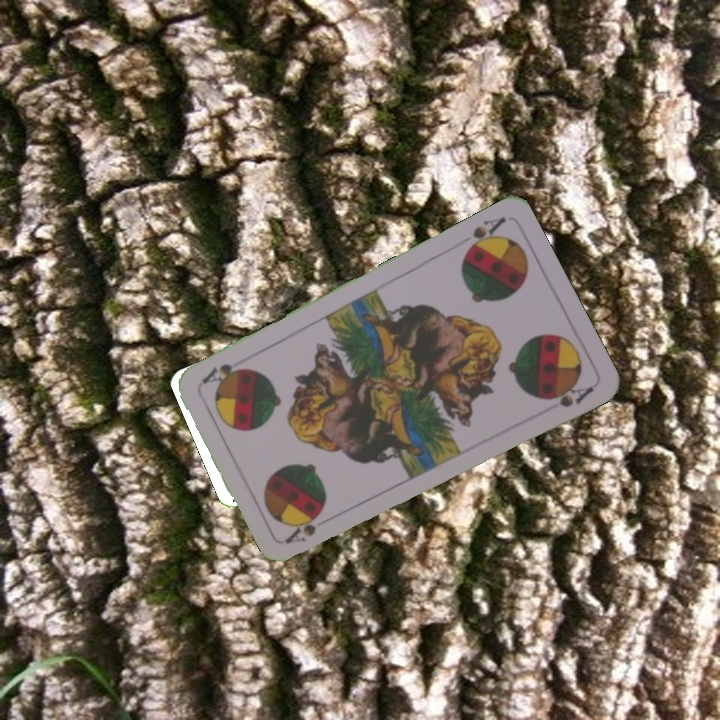SA: (460, 213, 508, 258), (282, 520, 319, 546)
